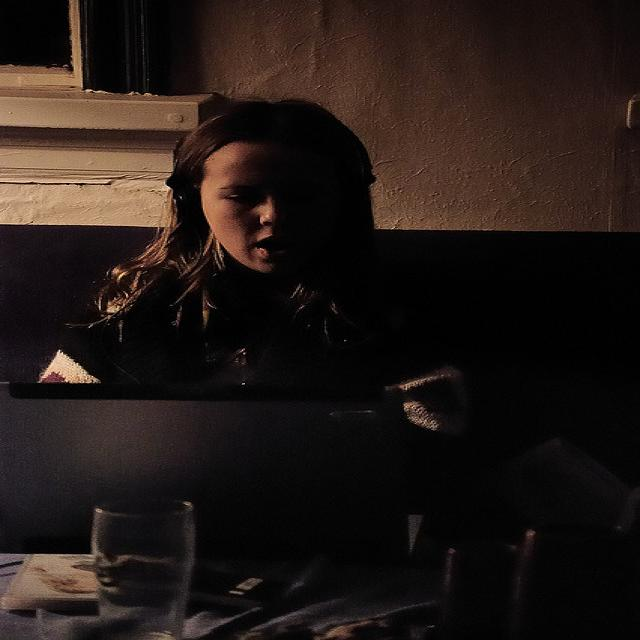Cup: (77, 485, 212, 640)
People: (136, 89, 463, 463)
